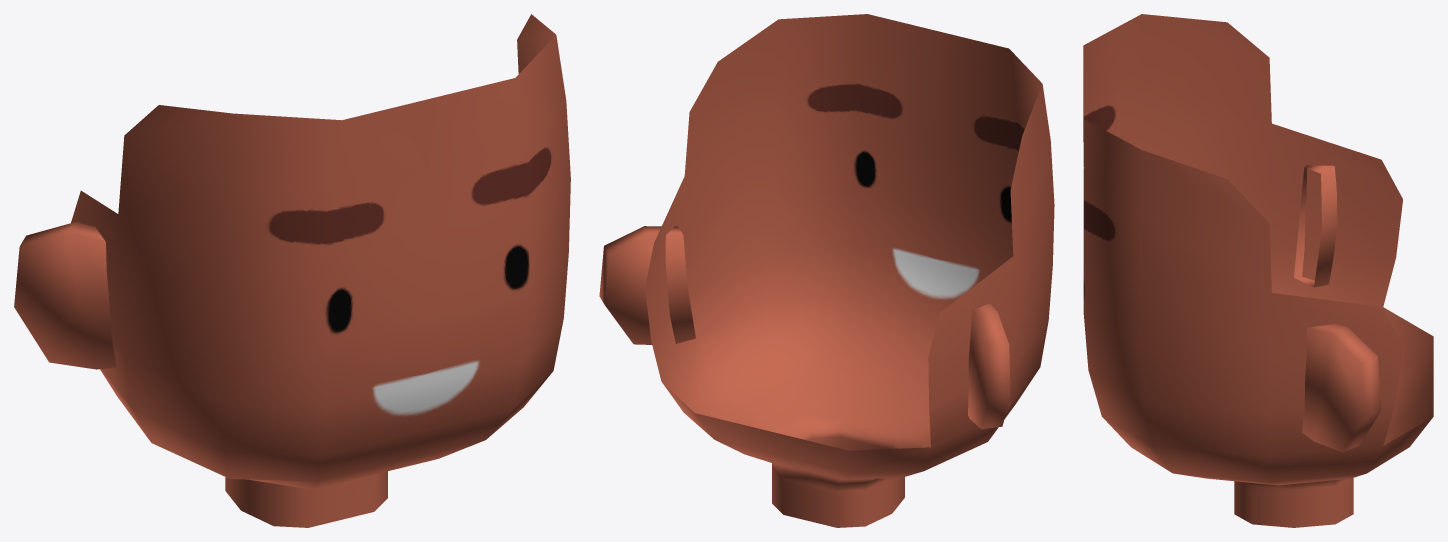
File: NPC_Black_Head.gltf
3 views of the same model, side by side, from view 1: azimuth 30°, elevation 25°; view 2: azimuth 150°, elevation 25°; view 3: azimuth 270°, elevation 25° (orthographic). The views are drawn at different scales.
Visible parts, largest first — view 1: NPC_Black_Head; view 2: NPC_Black_Head; view 3: NPC_Black_Head.
Boxes of the visible parts, x1=… form: NPC_Black_Head: x1=14, y1=14, x2=570, y2=527; NPC_Black_Head: x1=599, y1=14, x2=1054, y2=527; NPC_Black_Head: x1=1083, y1=14, x2=1433, y2=527.
Size of the model in its own units: 0.5931 by 0.5464 by 0.4151.
Materials: 1 (1 with a texture image).
